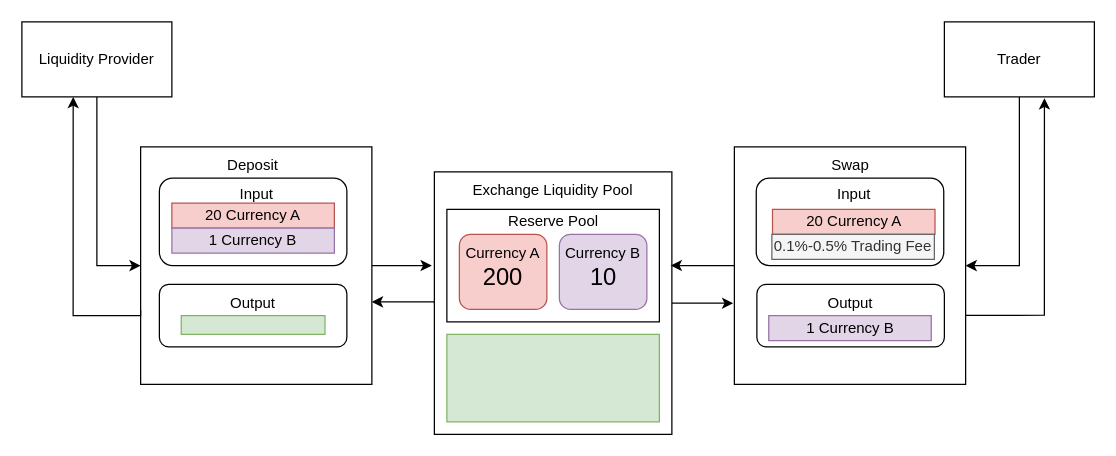
Some shapes in this 1116 by 456 pixel diagram are drawn without their labels. Here are the shapes that lost their labels. From the top down, the centre of each, then its label:
At (x=252, y=324): "4 LP Shares".
At (x=552, y=377): "Liquidity Shares".
